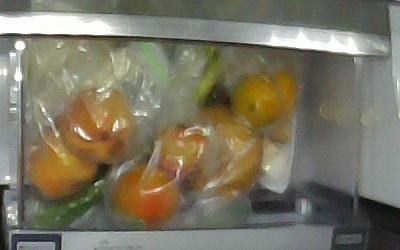peach_vinyl: (60, 86, 135, 162), (28, 135, 96, 199)
pear_vinyl: (189, 107, 262, 194)
tangerine_vinyl: (232, 75, 284, 123), (262, 67, 295, 113)
tomato_vinyl: (151, 123, 210, 185), (116, 165, 181, 221)
